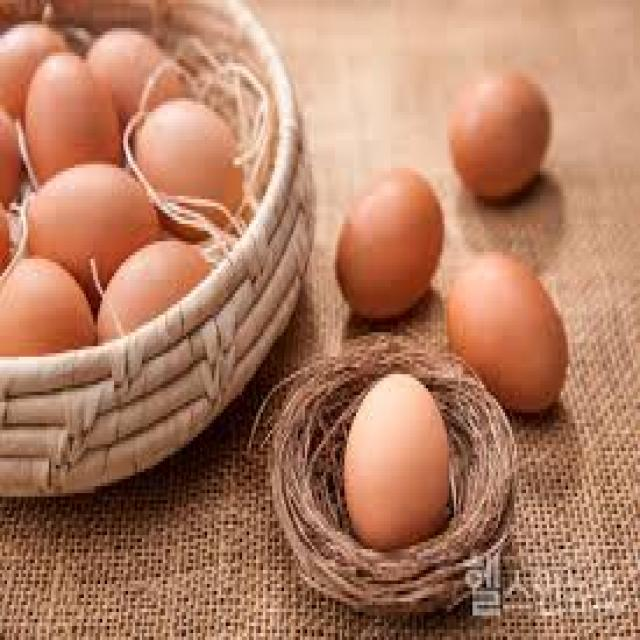egg: (449, 252, 570, 413), (344, 374, 449, 553), (337, 168, 445, 318)
